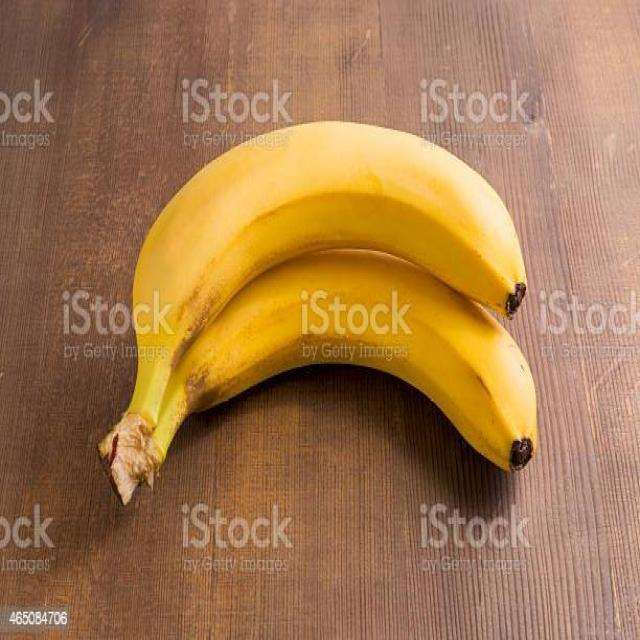Banana: (95, 113, 542, 516)
